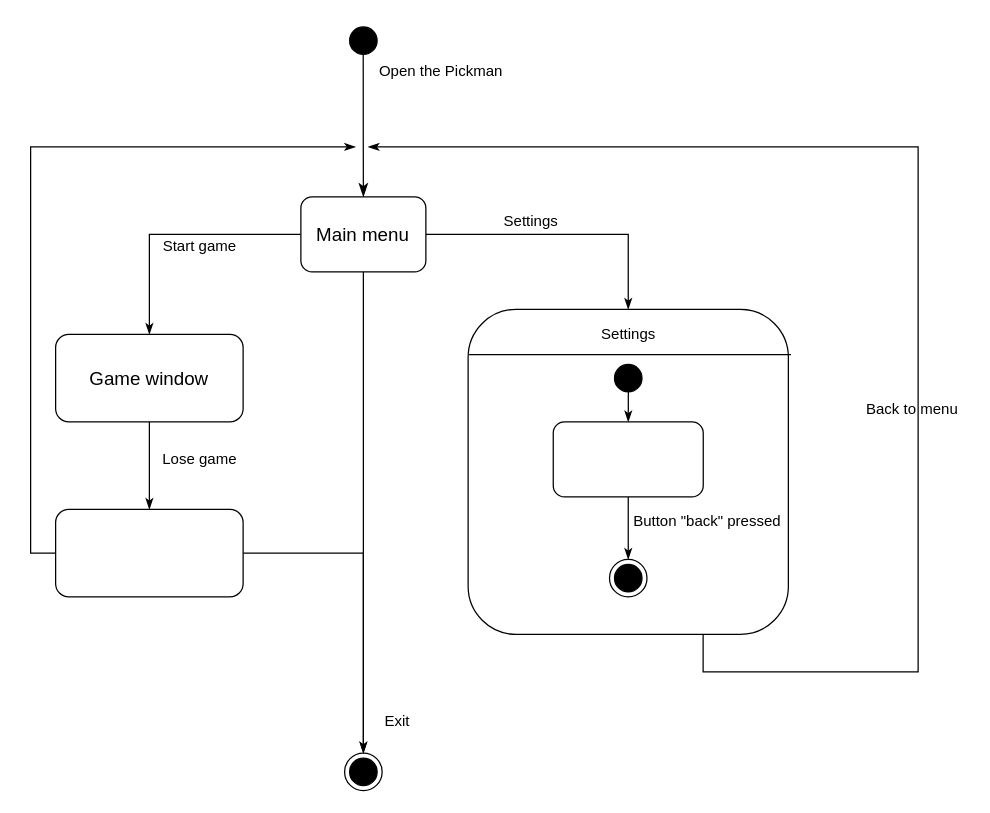
Some shapes in this 990 by 813 pixel diagram are drawn without their labels. The centre of each missing label's shape, as x and y in pixels:
Change sound and music volume: [627,459]
Score window: [148,552]
